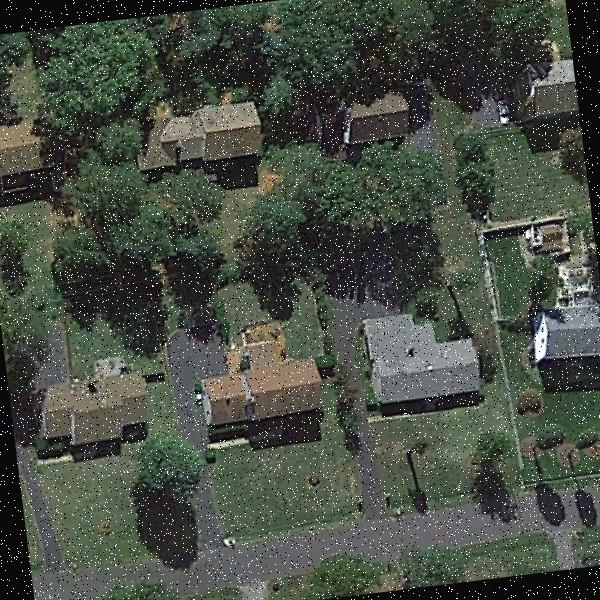Buildings: (196, 338, 319, 428), (368, 317, 484, 402), (150, 100, 274, 178), (39, 369, 146, 453), (530, 304, 600, 375), (522, 51, 580, 123), (0, 125, 53, 203), (340, 97, 410, 143)
